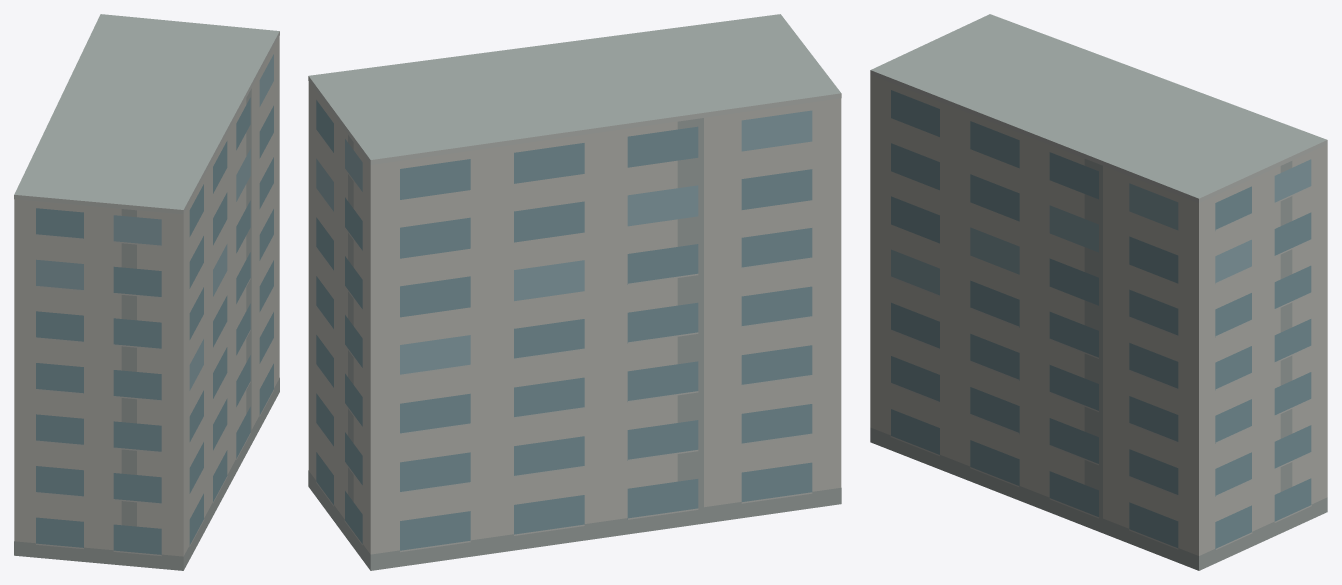
File: survey-upis-33027111.glb
3 renders of one model, left to right at view 1: azimuth 30°, elevation 25°; view 2: azimuth 150°, elevation 25°; view 3: azimuth 270°, elevation 25°, orthographic. The views are drawn at different scales.
Parts seen in each view (by area): view 1: survey-upis-33027111.tmp; view 2: survey-upis-33027111.tmp; view 3: survey-upis-33027111.tmp.
Part boxes in pixels (<box>): survey-upis-33027111.tmp: <box>14,14,279,570</box>; survey-upis-33027111.tmp: <box>308,14,841,570</box>; survey-upis-33027111.tmp: <box>870,14,1327,570</box>.
Bounding box in the file's own units: 20.87 × 19.6 × 21.82.
